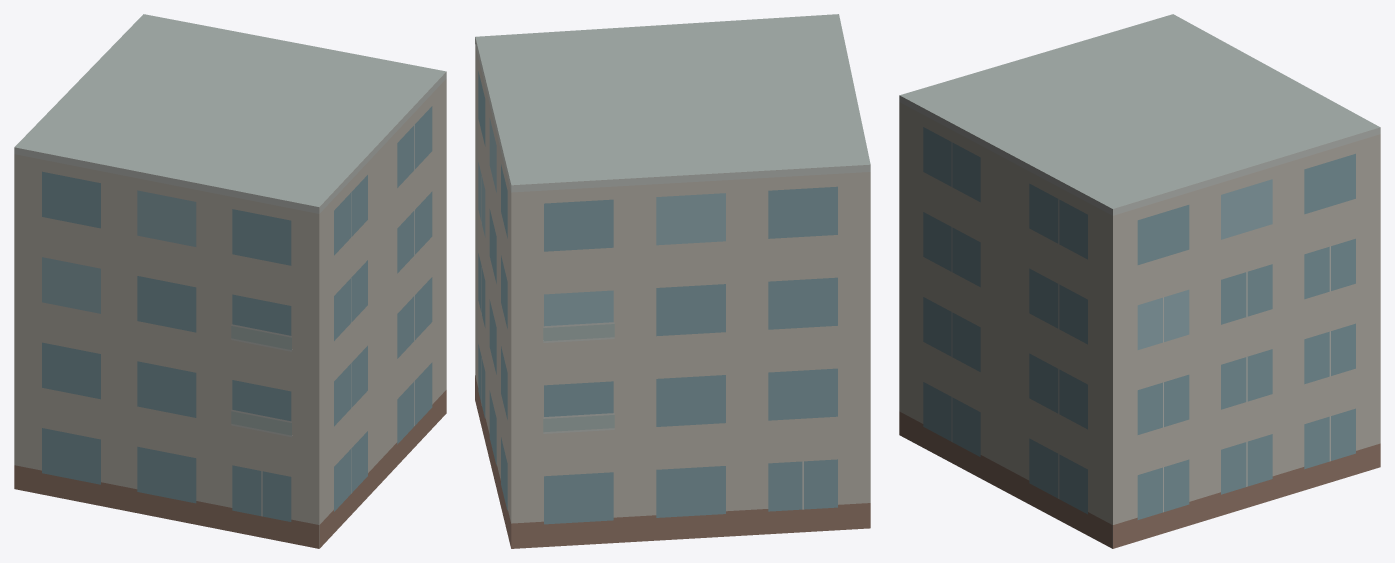
File: survey-upis-33046993.glb
3 renders of one model, left to right at view 1: azimuth 30°, elevation 25°; view 2: azimuth 150°, elevation 25°; view 3: azimuth 270°, elevation 25°, orthographic. The views are drawn at different scales.
Parts seen in each view (by area): view 1: survey-upis-33046993.tmp; view 2: survey-upis-33046993.tmp; view 3: survey-upis-33046993.tmp.
Boxes of the visible parts, box(x1,y1,x2,y2) form: survey-upis-33046993.tmp: box(14, 14, 446, 548); survey-upis-33046993.tmp: box(475, 14, 870, 548); survey-upis-33046993.tmp: box(899, 14, 1380, 548).
Size of the model in its own units: 15.03 by 12.2 by 15.66.
